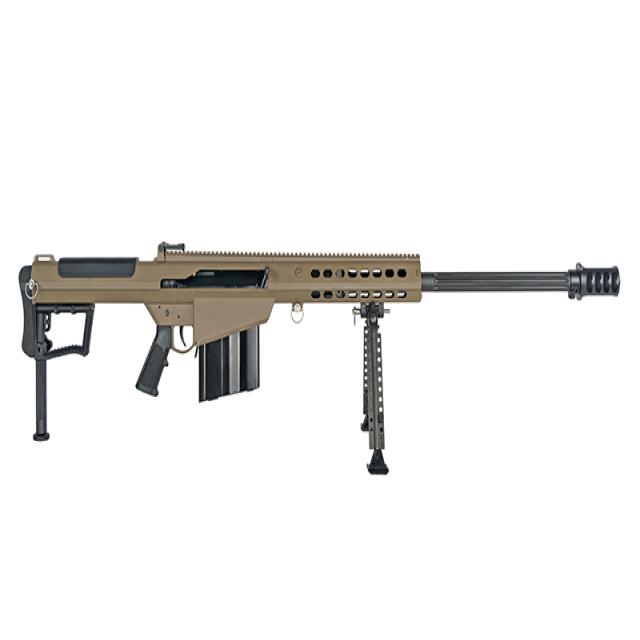Rifle: (21, 242, 622, 441)
